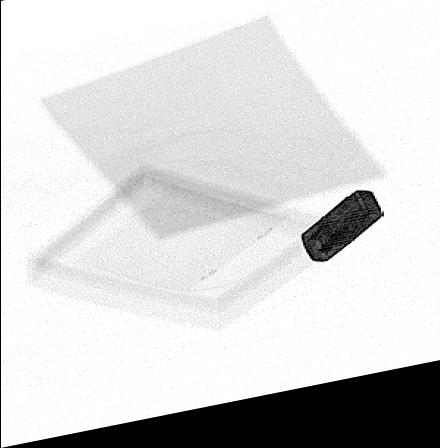Lighter: (300, 204, 381, 274)
